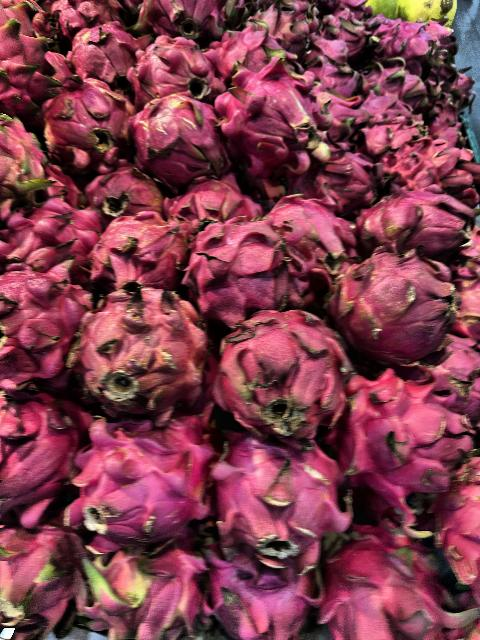buah-naga-belum-matang: (79, 286, 209, 412)
buah-naga-matang: (71, 407, 213, 548), (208, 304, 348, 444), (206, 427, 342, 563), (334, 360, 472, 484), (315, 514, 445, 640), (85, 532, 225, 640), (334, 250, 460, 364), (188, 208, 316, 318), (214, 48, 334, 162), (205, 532, 315, 640), (0, 254, 80, 392), (0, 402, 86, 524), (89, 200, 200, 290), (362, 187, 476, 273), (136, 87, 229, 181), (2, 118, 74, 235), (1, 554, 92, 640), (38, 74, 130, 154), (137, 28, 220, 102), (64, 15, 146, 84), (306, 137, 384, 209), (169, 178, 253, 238), (78, 160, 162, 214)
